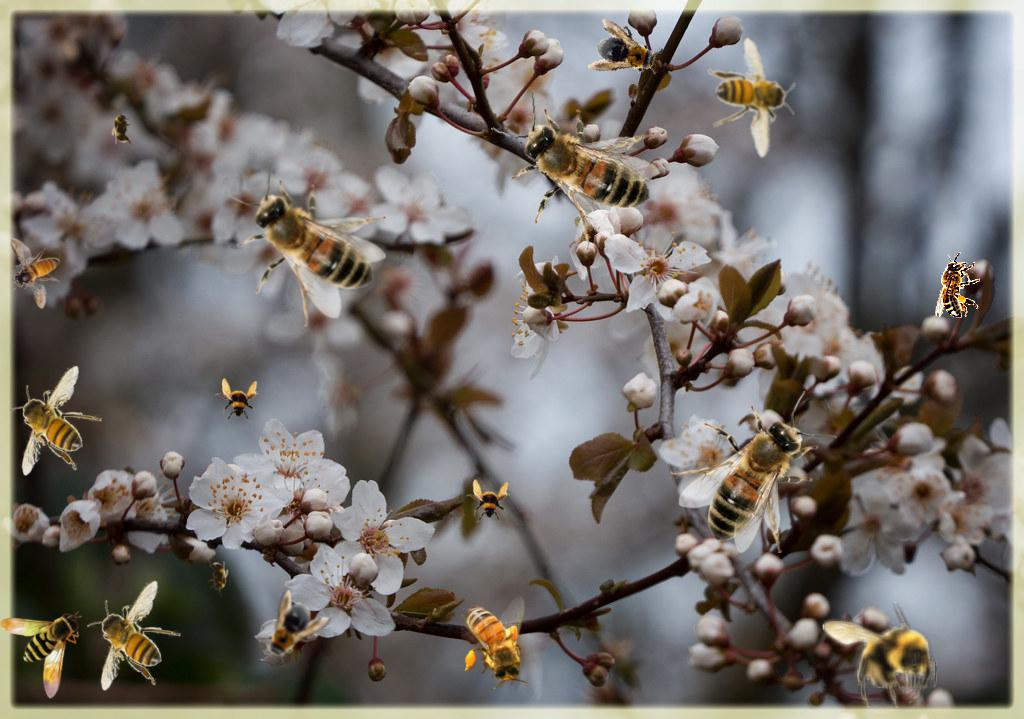Bee: (486, 76, 669, 262), (670, 391, 837, 553), (224, 160, 386, 327), (681, 27, 822, 173), (822, 601, 937, 708), (8, 365, 102, 476), (87, 580, 181, 691), (0, 611, 82, 699), (250, 588, 332, 674), (461, 596, 529, 689), (587, 18, 667, 86), (10, 238, 60, 309), (935, 252, 980, 318), (215, 378, 259, 422), (466, 479, 510, 523), (111, 108, 133, 148), (207, 557, 229, 597)
